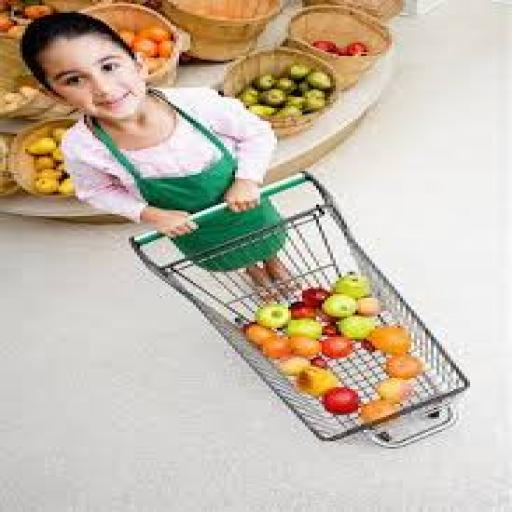shopping_cart: (120, 169, 476, 453)
